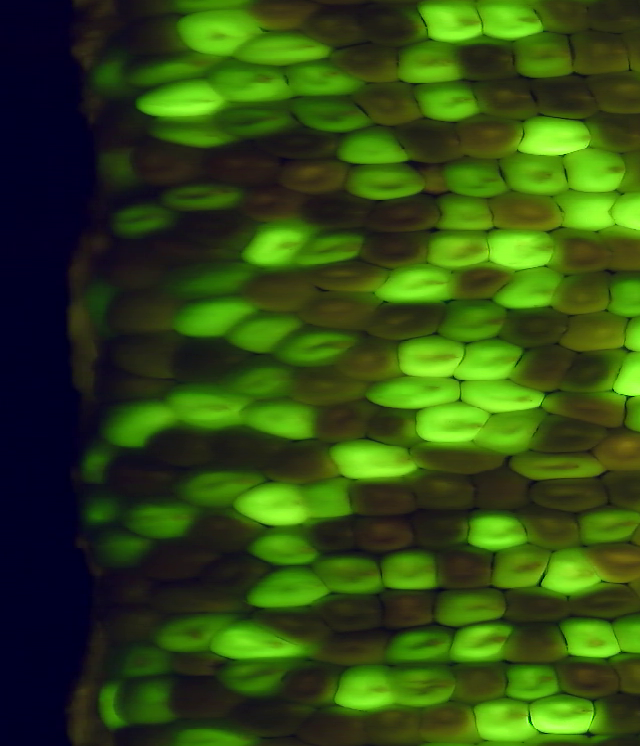fluorescent: (207, 619, 322, 661), (274, 321, 365, 368), (205, 55, 295, 102), (173, 10, 263, 56), (325, 435, 421, 478), (166, 384, 253, 429), (152, 613, 244, 655), (138, 82, 238, 120), (505, 448, 610, 484), (548, 188, 634, 231), (284, 92, 372, 134), (244, 566, 335, 606), (247, 219, 316, 271), (510, 32, 583, 81), (142, 113, 244, 148), (232, 482, 315, 525), (171, 299, 258, 340), (229, 308, 306, 354), (117, 496, 201, 538), (103, 402, 176, 450), (175, 467, 268, 504), (501, 151, 572, 198), (240, 399, 321, 440), (216, 658, 300, 697), (496, 268, 572, 311), (398, 40, 470, 85), (364, 375, 462, 408), (228, 352, 294, 401), (343, 162, 430, 199), (395, 335, 468, 379), (408, 81, 486, 122), (456, 379, 547, 414), (281, 59, 372, 94), (247, 529, 328, 568), (173, 263, 256, 301), (540, 544, 603, 594), (294, 476, 357, 526), (474, 410, 545, 454), (413, 404, 493, 443), (517, 116, 595, 156), (490, 542, 555, 590), (312, 555, 388, 596), (418, 1, 487, 46), (447, 620, 516, 665), (422, 227, 495, 269), (235, 33, 333, 64), (435, 587, 512, 626), (467, 508, 535, 552), (485, 226, 556, 268), (469, 700, 540, 742), (395, 664, 461, 709), (439, 299, 508, 342), (379, 268, 459, 305), (332, 667, 400, 710), (381, 627, 460, 664), (334, 127, 411, 164), (214, 105, 300, 138), (378, 547, 444, 590), (121, 677, 180, 725), (563, 151, 630, 193), (429, 191, 499, 231), (478, 1, 548, 41), (439, 160, 512, 198), (454, 344, 526, 382), (525, 696, 600, 732), (558, 615, 622, 657), (295, 230, 370, 265), (91, 527, 153, 569), (499, 661, 564, 700), (80, 282, 123, 340), (573, 507, 640, 544), (127, 55, 217, 82), (159, 182, 243, 209), (109, 203, 176, 236), (90, 57, 139, 102), (95, 145, 140, 192), (173, 725, 261, 746), (125, 645, 176, 678), (94, 681, 128, 730), (603, 271, 640, 315), (609, 185, 640, 234), (174, 1, 253, 18), (609, 612, 640, 655), (78, 447, 114, 484), (82, 494, 123, 526)
nonfluorescent: (165, 334, 257, 378), (168, 669, 242, 723), (405, 439, 512, 476), (108, 454, 187, 502), (540, 389, 630, 430), (143, 228, 240, 266), (251, 601, 328, 648), (207, 426, 291, 469), (335, 333, 410, 381), (548, 655, 624, 701), (95, 364, 184, 403), (454, 111, 526, 159), (108, 290, 184, 335), (204, 143, 282, 185), (148, 583, 257, 613), (529, 74, 600, 120), (267, 439, 341, 483), (135, 140, 207, 185), (288, 365, 369, 405), (144, 428, 224, 468), (300, 290, 378, 331), (393, 118, 469, 160), (181, 207, 257, 249), (360, 1, 432, 45), (186, 511, 265, 551), (110, 332, 183, 375), (309, 593, 387, 633), (298, 708, 379, 746), (468, 469, 534, 515), (502, 622, 571, 666), (508, 344, 571, 392), (412, 469, 479, 514), (315, 631, 394, 669), (369, 298, 444, 338), (301, 189, 374, 230), (525, 414, 607, 450), (548, 227, 612, 273), (486, 192, 565, 229), (99, 601, 165, 645), (247, 271, 321, 310), (500, 307, 572, 347), (526, 477, 610, 511), (330, 45, 402, 84), (435, 544, 496, 590), (353, 83, 423, 123), (96, 242, 166, 282), (206, 553, 276, 593), (473, 77, 538, 120), (567, 30, 632, 73), (563, 312, 631, 353), (349, 479, 422, 517), (448, 663, 512, 706), (242, 697, 314, 735), (364, 196, 442, 231), (370, 403, 428, 450), (304, 7, 372, 47), (362, 229, 430, 269), (564, 346, 623, 392), (98, 94, 150, 146), (124, 18, 195, 56), (519, 507, 581, 550), (145, 539, 219, 575), (276, 156, 352, 191), (353, 513, 416, 555), (285, 662, 345, 706), (502, 585, 575, 621), (314, 400, 376, 442), (242, 182, 306, 222), (552, 272, 614, 313), (412, 507, 474, 548), (572, 583, 640, 620), (582, 543, 640, 586), (314, 260, 391, 292), (258, 131, 345, 159), (456, 41, 518, 80), (453, 264, 517, 301), (585, 70, 640, 113), (585, 112, 640, 154), (380, 588, 436, 629), (422, 703, 480, 742), (371, 704, 426, 745), (252, 1, 320, 32), (310, 520, 364, 557), (99, 565, 150, 604), (600, 224, 640, 273), (595, 431, 640, 472), (599, 469, 640, 513), (168, 649, 230, 677), (595, 695, 640, 733), (586, 1, 640, 32), (542, 1, 589, 36), (113, 723, 180, 746), (114, 1, 174, 26), (414, 160, 453, 198), (608, 651, 640, 694), (258, 735, 318, 746), (599, 734, 640, 746)
